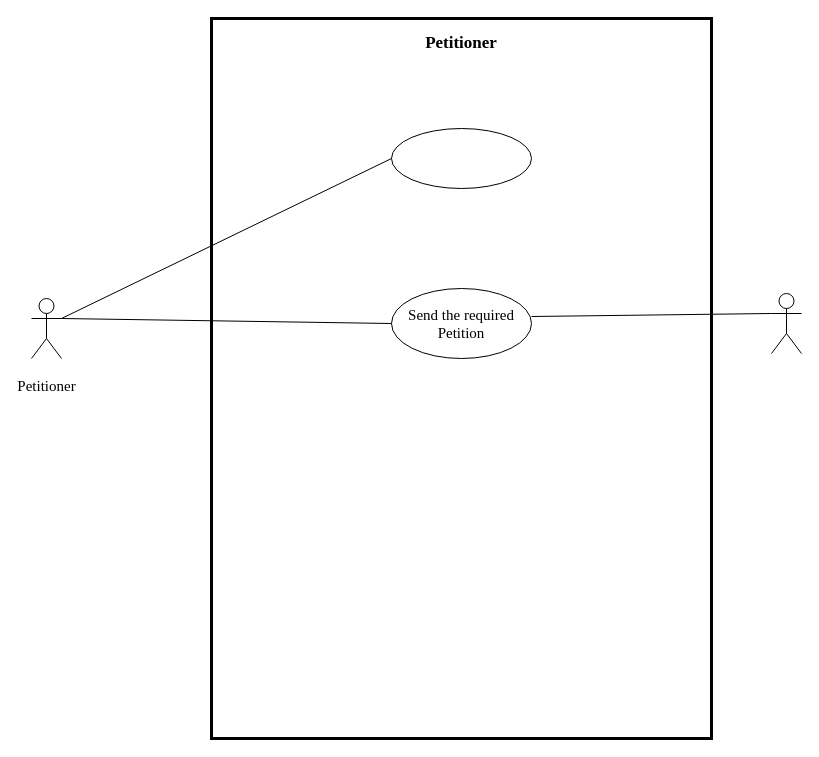
Image size: 819x757. Some labels were removed from this diagram. Here are the shapes that lost their labels. From the top down, the centre of each, then its label:
At (461,158): "View the requests".
At (786,323): "User".
